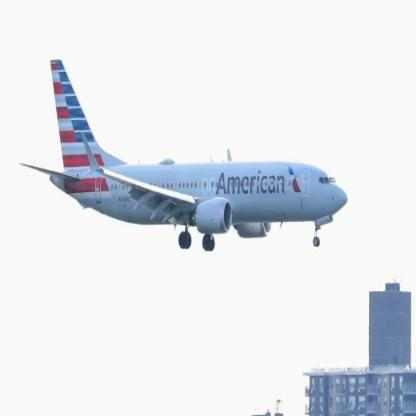CIV_Plane: (17, 55, 350, 256)
